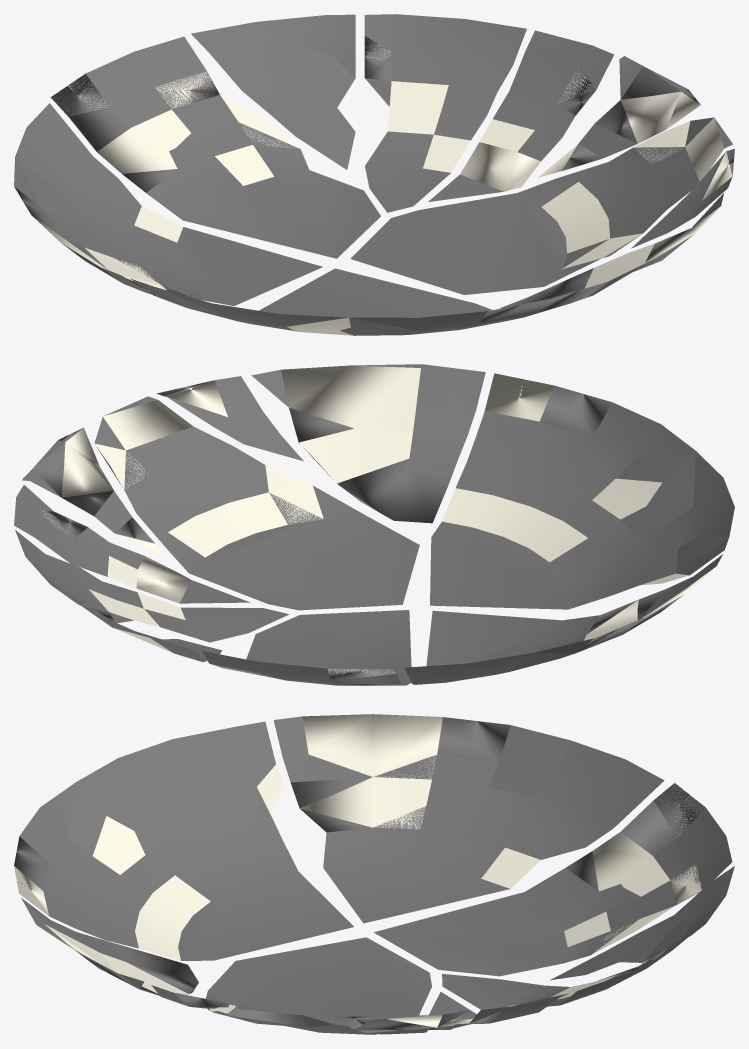
The model's file is CeramicsShattered.fbx_Plate_Medium_Fractured.fbx.
The picture shows the model from 3 angles, top to bottom: view 1: azimuth 30°, elevation 25°; view 2: azimuth 150°, elevation 25°; view 3: azimuth 270°, elevation 25°; orthographic projection.
Parts seen in each view (by area): view 1: Plate_Medium_cell.001, Plate_Medium_cell.003, Plate_Medium_cell.005, Plate_Medium_cell, Plate_Medium_cell.006, Plate_Medium_cell.007, Plate_Medium_cell.002, Plate_Medium_cell.004, Plate_Medium_cell.009, Plate_Medium_cell.008; view 2: Plate_Medium_cell.007, Plate_Medium_cell.003, Plate_Medium_cell.009, Plate_Medium_cell.005, Plate_Medium_cell.001, Plate_Medium_cell, Plate_Medium_cell.002, Plate_Medium_cell.004, Plate_Medium_cell.008, Plate_Medium_cell.006; view 3: Plate_Medium_cell.005, Plate_Medium_cell.007, Plate_Medium_cell.001, Plate_Medium_cell.003, Plate_Medium_cell.009, Plate_Medium_cell.006, Plate_Medium_cell, Plate_Medium_cell.002, Plate_Medium_cell.004, Plate_Medium_cell.008.
Boxes of the visible parts, x1,y1,x2,y2 form: Plate_Medium_cell.001: (50, 36, 380, 258); Plate_Medium_cell.003: (350, 117, 732, 294); Plate_Medium_cell.005: (14, 103, 322, 305); Plate_Medium_cell: (364, 14, 526, 212); Plate_Medium_cell.006: (191, 14, 355, 169); Plate_Medium_cell.007: (130, 268, 606, 335); Plate_Medium_cell.002: (428, 30, 613, 201); Plate_Medium_cell.004: (537, 56, 700, 177); Plate_Medium_cell.009: (500, 193, 723, 308); Plate_Medium_cell.008: (631, 148, 734, 248); Plate_Medium_cell.007: (430, 373, 734, 609); Plate_Medium_cell.003: (94, 396, 419, 610); Plate_Medium_cell.009: (251, 364, 485, 523); Plate_Medium_cell.005: (404, 554, 722, 684); Plate_Medium_cell.001: (202, 610, 411, 685); Plate_Medium_cell: (15, 530, 289, 642); Plate_Medium_cell.002: (14, 485, 250, 603); Plate_Medium_cell.004: (22, 427, 166, 559); Plate_Medium_cell.008: (156, 376, 303, 461); Plate_Medium_cell.006: (72, 599, 222, 662); Plate_Medium_cell.005: (273, 714, 664, 923); Plate_Medium_cell.007: (14, 721, 353, 960); Plate_Medium_cell.001: (374, 783, 732, 976); Plate_Medium_cell.003: (205, 937, 431, 1034); Plate_Medium_cell.009: (21, 898, 198, 995); Plate_Medium_cell.006: (550, 866, 734, 980); Plate_Medium_cell: (442, 939, 685, 1009); Plate_Medium_cell.002: (429, 992, 568, 1029); Plate_Medium_cell.004: (335, 1010, 472, 1034); Plate_Medium_cell.008: (151, 985, 228, 1008).
Size of the model in its own units: 13.69 by 1.8 by 13.74.
